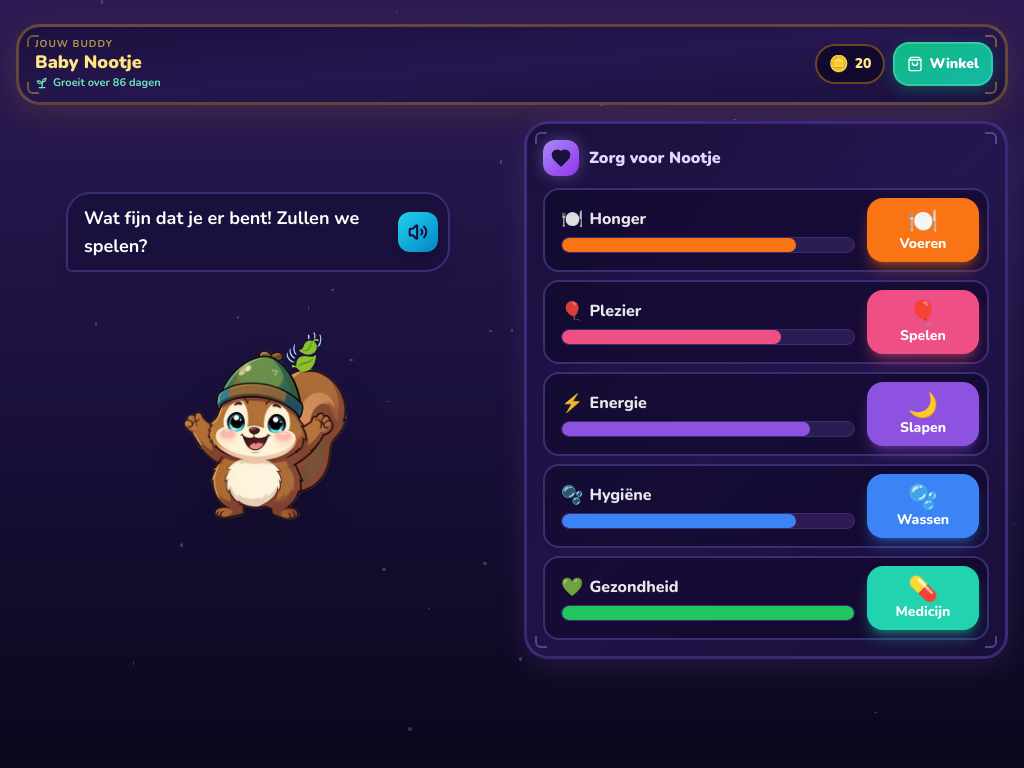
Test case: BuddyRoom › jumps and says something new when the child taps the Buddy
Click the button named "Tik op Nootje": x=258, y=436 [114,288,402,583]
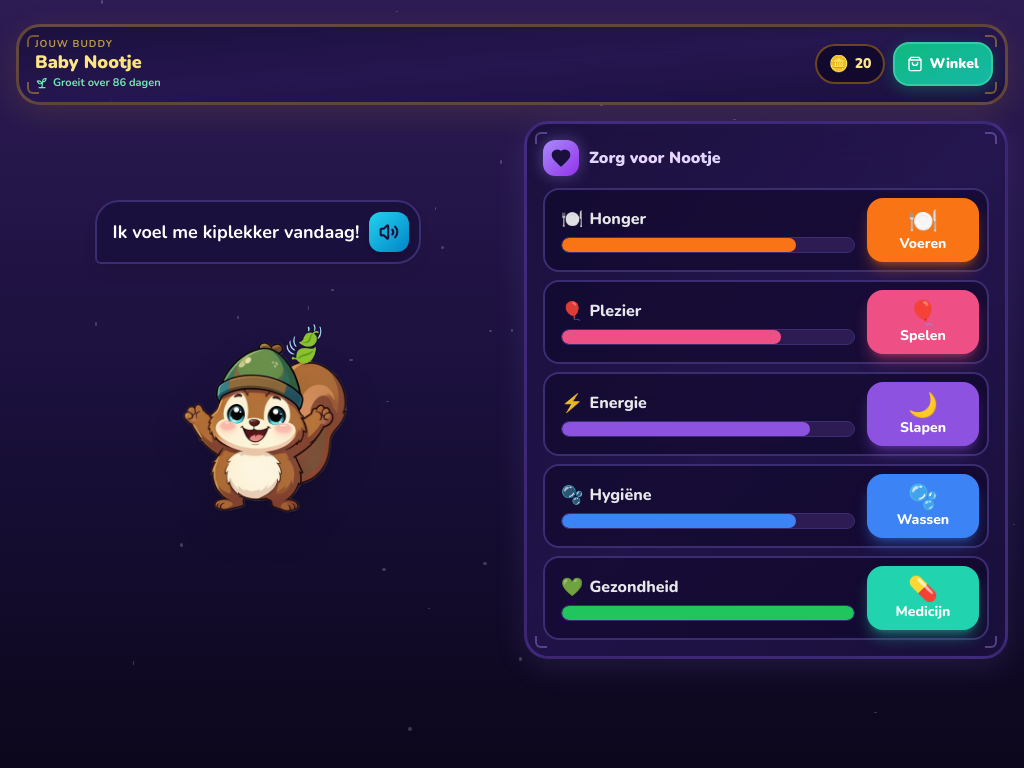
Check: the button "Lees voor" no longer shows "Wat fijn dat je er bent! Zullen we spelen?"
Check: the picture with class "animate-buddy-boop" is shown, box [151,317,364,530]
